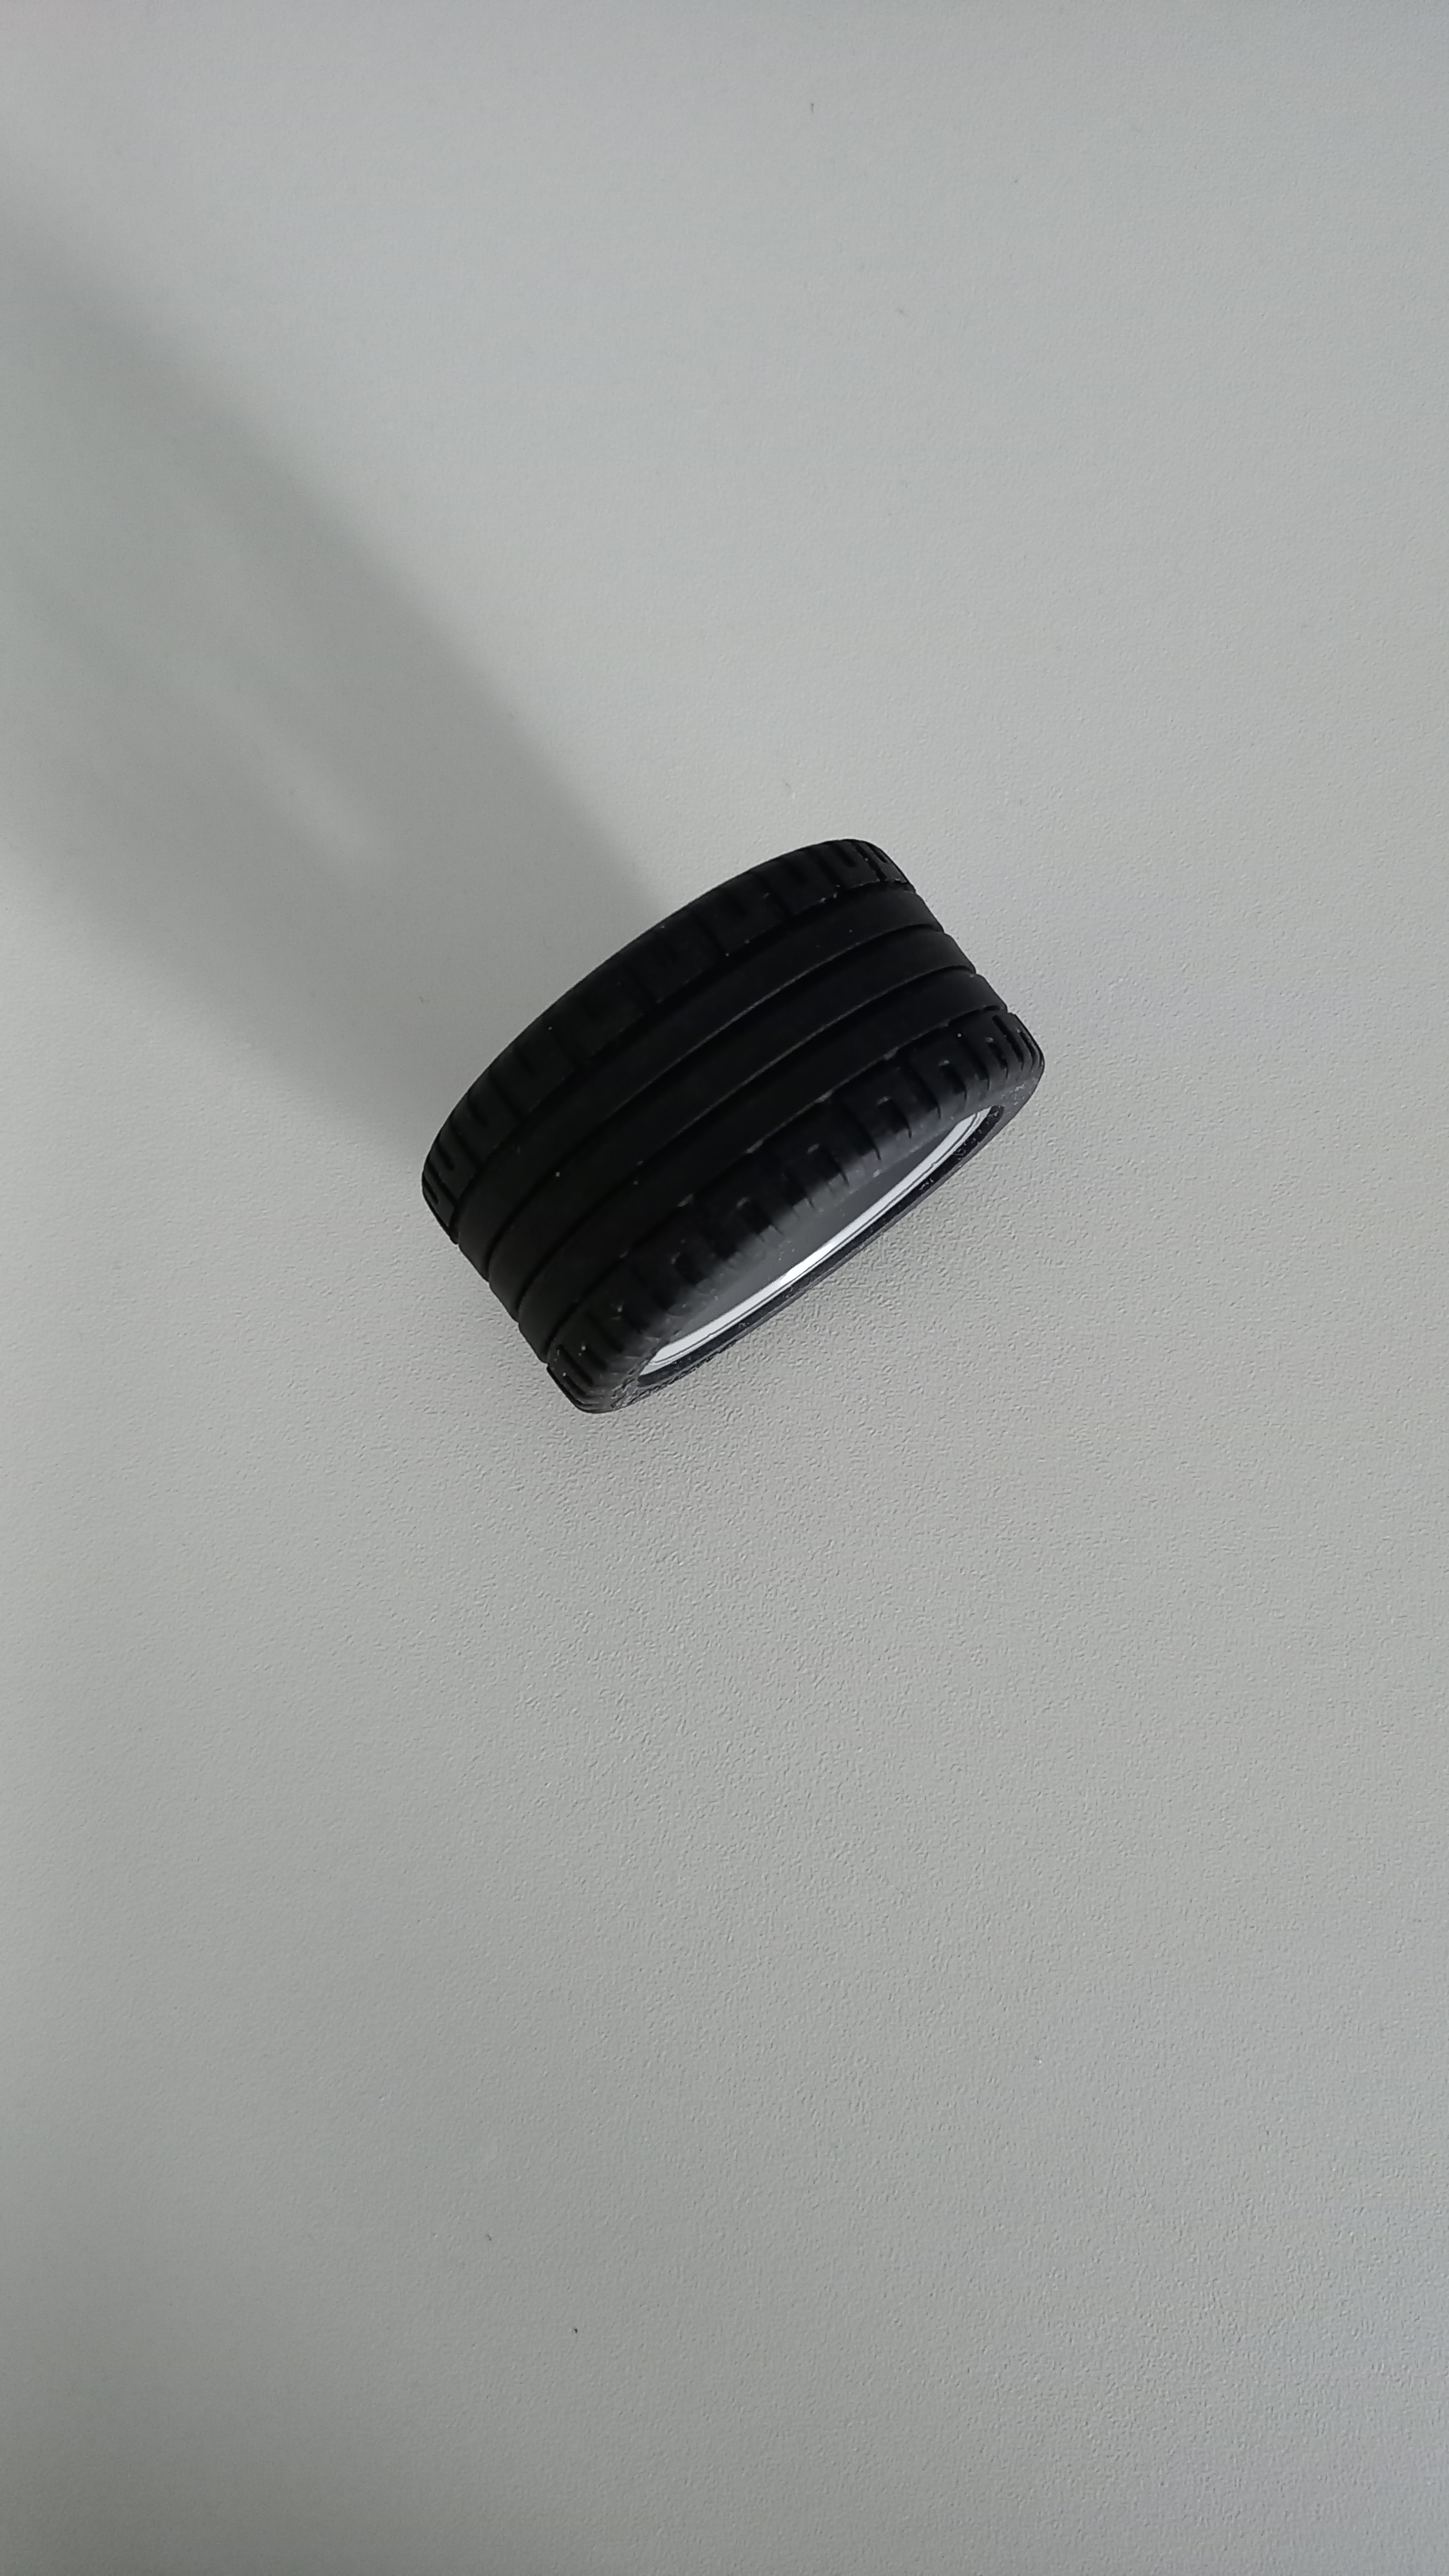Rad: (400, 814, 1067, 1442)
